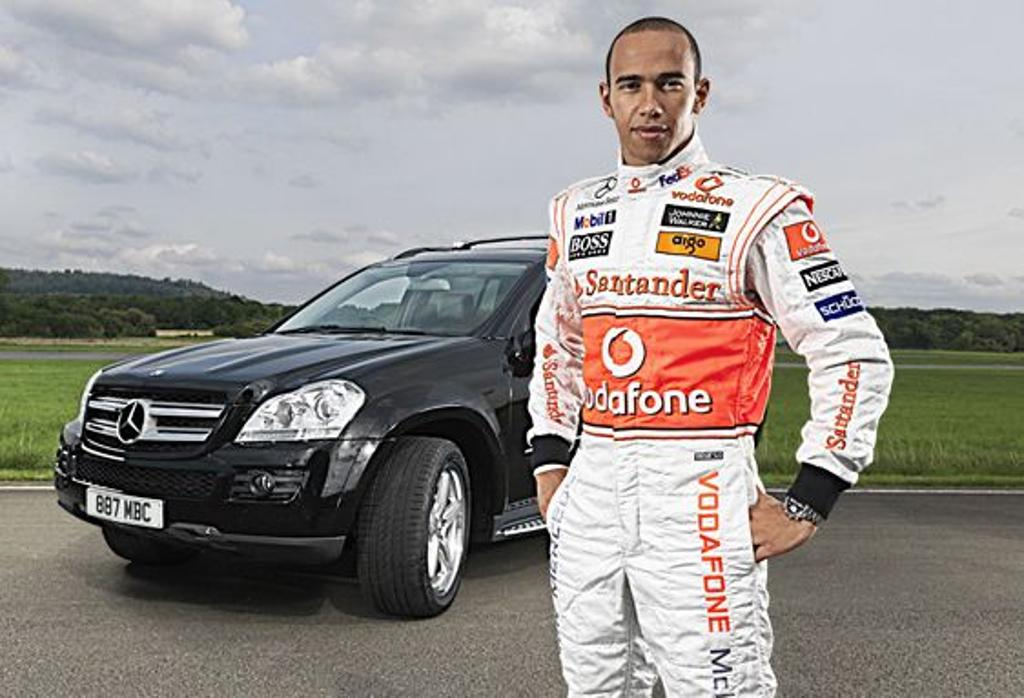face: (614, 42, 696, 150)
